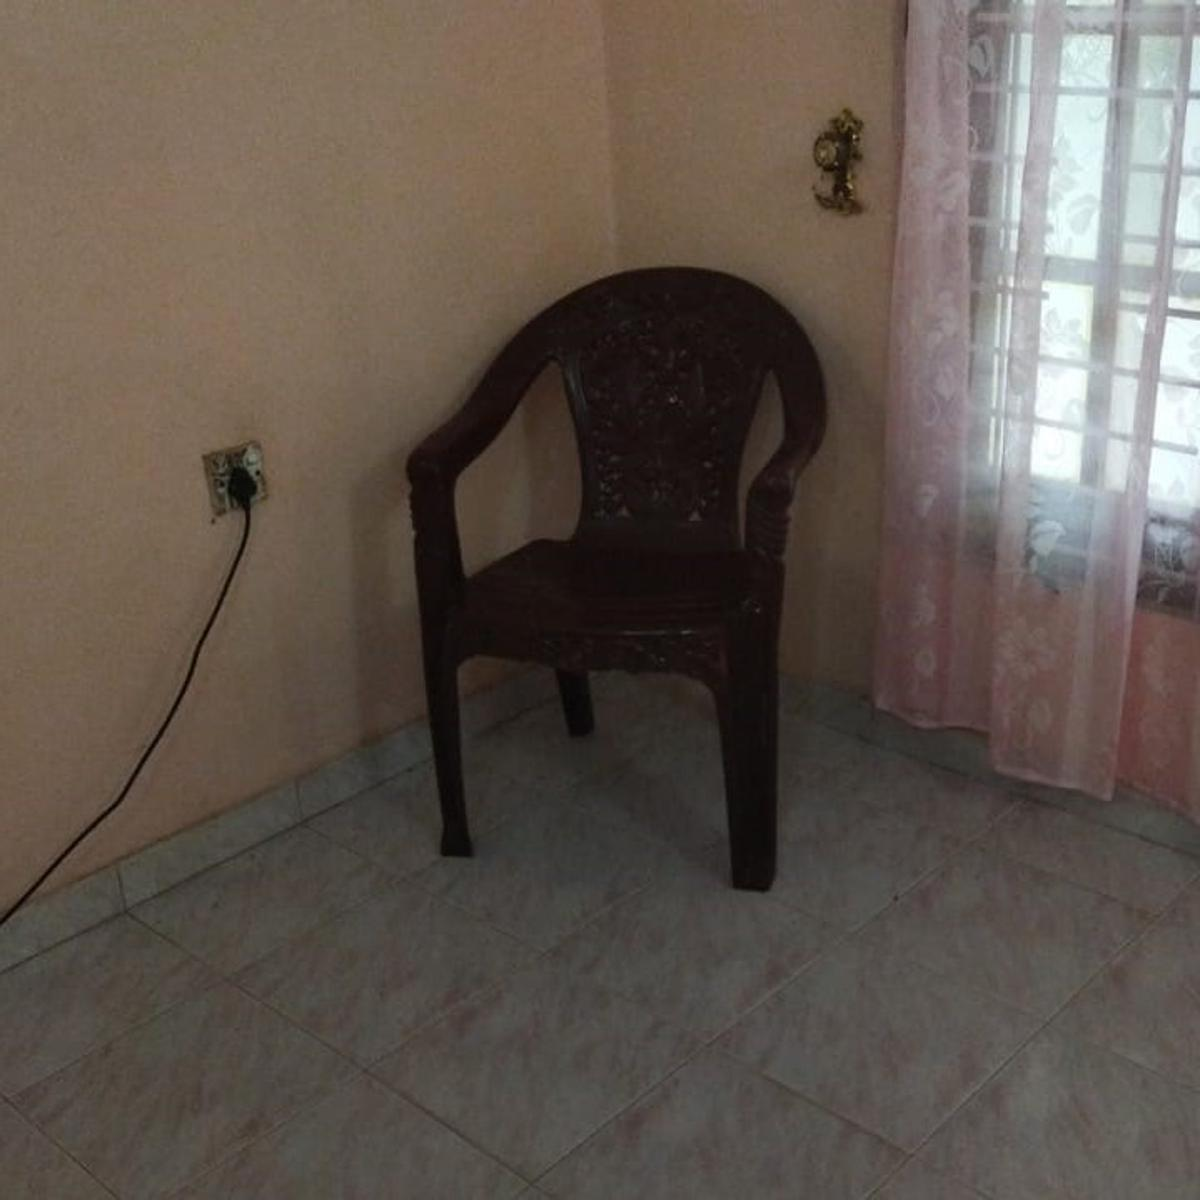Chair: (402, 266, 827, 893)
